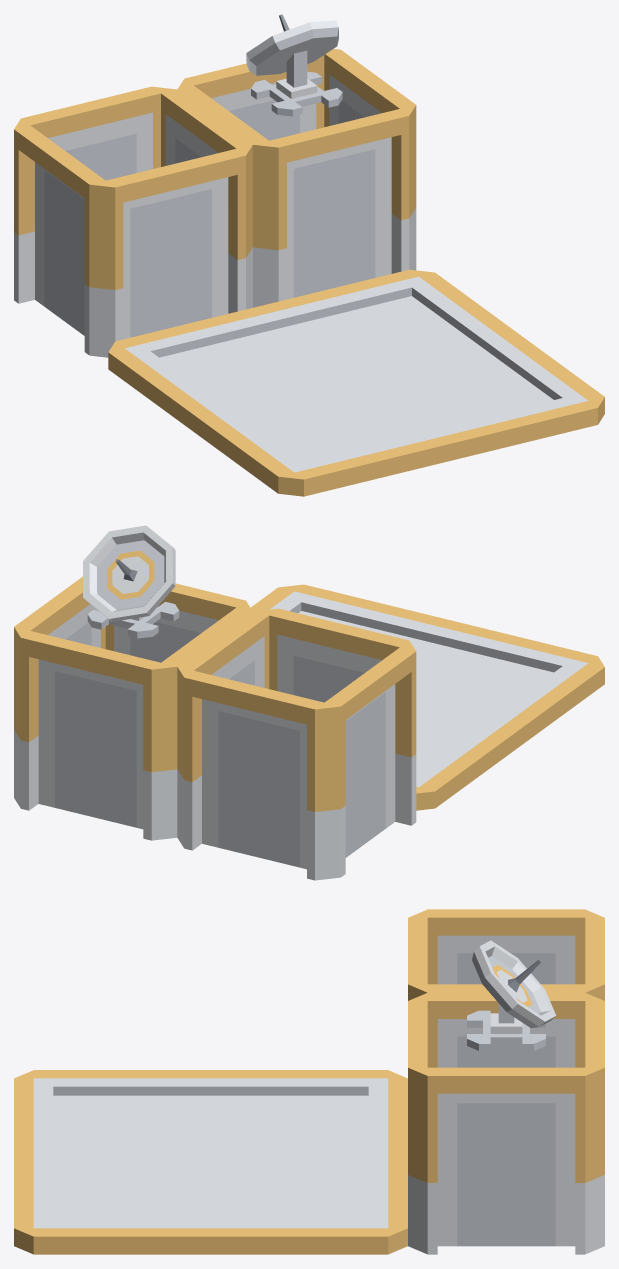
File: starport.glb
3 views of the same model, one above another, from view 1: azimuth 30°, elevation 25°; view 2: azimuth 150°, elevation 25°; view 3: azimuth 270°, elevation 25° (orthographic). The views are drawn at different scales.
Visible parts, largest first — view 1: structure_closed (×2), platform_large, satelliteDish; view 2: structure_closed (×2), platform_large, satelliteDish; view 3: platform_large, structure_closed (×2), satelliteDish.
Boxes of the visible parts, x1=… form: structure_closed (×2): x1=14, y1=48, x2=416, y2=357; platform_large: x1=108, y1=269, x2=604, y2=496; satelliteDish: x1=246, y1=14, x2=342, y2=116; structure_closed (×2): x1=14, y1=576, x2=416, y2=880; platform_large: x1=250, y1=584, x2=604, y2=810; satelliteDish: x1=83, y1=525, x2=179, y2=638; platform_large: x1=14, y1=1070, x2=407, y2=1254; structure_closed (×2): x1=408, y1=909, x2=604, y2=1254; satelliteDish: x1=467, y1=940, x2=556, y2=1050.
Bounding box in the file's own units: 2 × 1.49 × 3.
